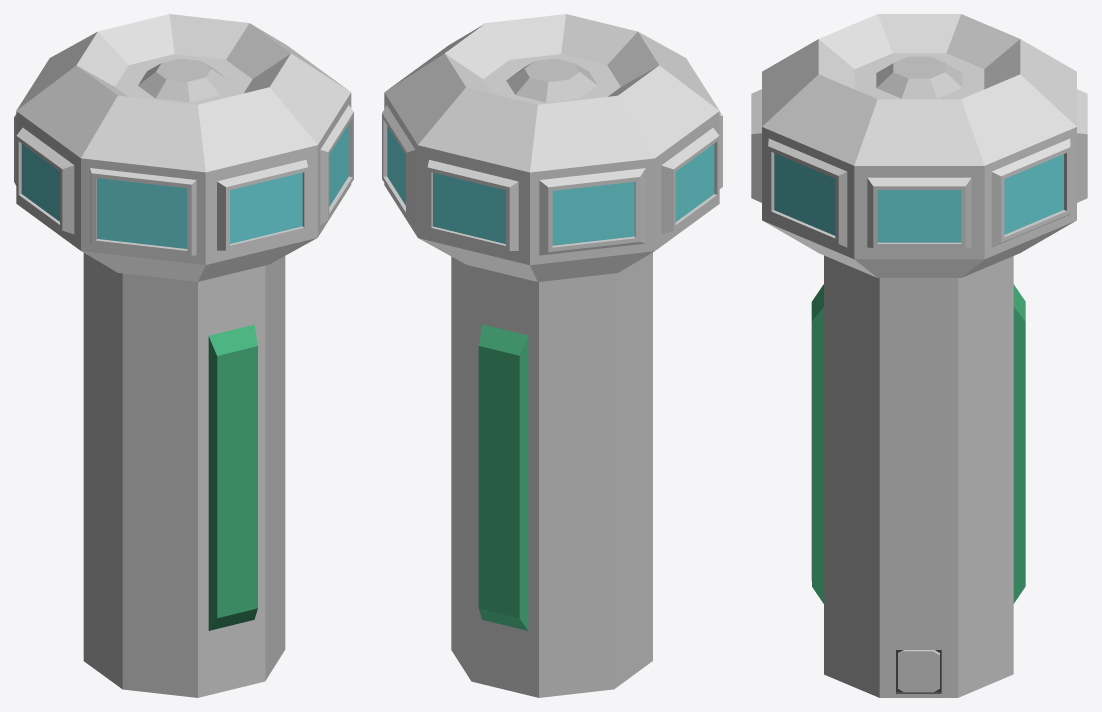
The model's file is Tower.fbx.
The picture shows the model from 3 angles, left to right: view 1: azimuth 30°, elevation 25°; view 2: azimuth 150°, elevation 25°; view 3: azimuth 270°, elevation 25°; orthographic projection.
Parts seen in each view (by area): view 1: Tower; view 2: Tower; view 3: Tower.
Part boxes in pixels (x1=…): Tower: x1=14, y1=14, x2=353, y2=697; Tower: x1=382, y1=14, x2=722, y2=697; Tower: x1=751, y1=14, x2=1087, y2=697.
Bounding box in the file's own units: 197 × 389 × 197.
